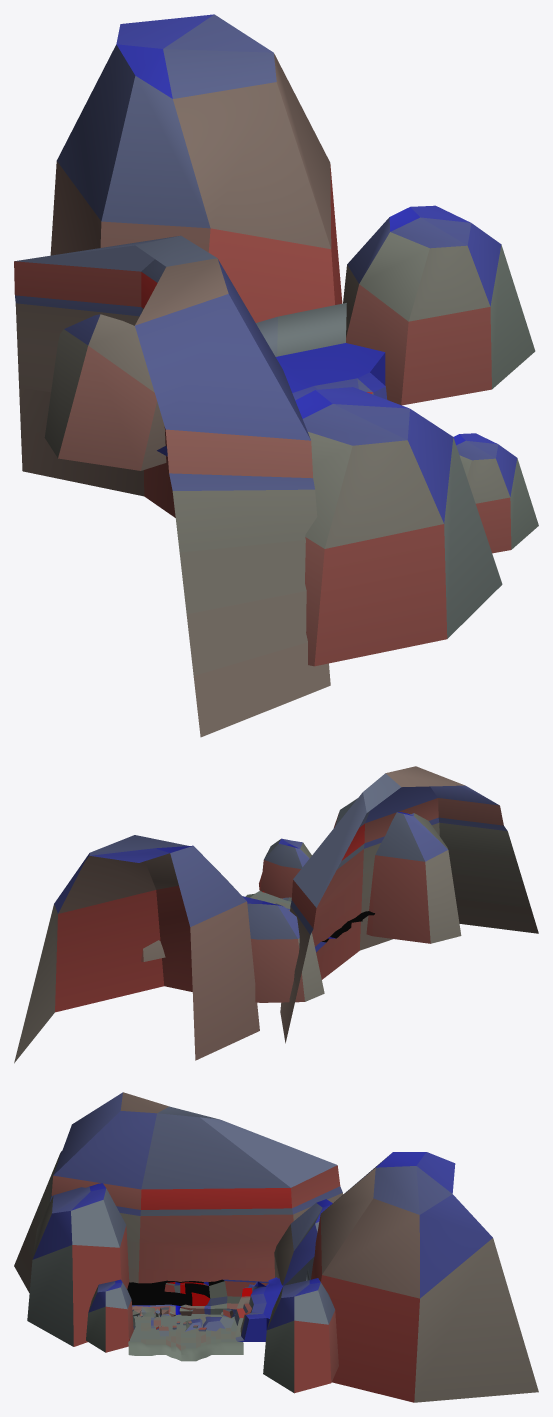
Rendered from level3c.fbx.
3 renders of one model, top to bottom at view 1: azimuth 30°, elevation 25°; view 2: azimuth 150°, elevation 25°; view 3: azimuth 270°, elevation 25°, orthographic. The views are drawn at different scales.
Visible parts, largest first — view 1: Mesh, Cliff; view 2: Mesh, Boulders; view 3: Mesh, Plane, Boulders, Cliff, Mesh (2), pyramids.
Part boxes in pixels (x1=…): Mesh: x1=14, y1=14, x2=538, y2=737; Cliff: x1=256, y1=303, x2=387, y2=400; Mesh: x1=14, y1=766, x2=538, y2=1063; Boulders: x1=262, y1=891, x2=374, y2=952; Mesh: x1=14, y1=1092, x2=538, y2=1402; Plane: x1=128, y1=1314, x2=243, y2=1361; Boulders: x1=127, y1=1279, x2=268, y2=1340; Cliff: x1=234, y1=1268, x2=310, y2=1341; Mesh (2): x1=132, y1=1307, x2=234, y2=1317; pyramids: x1=185, y1=1316, x2=233, y2=1331.
Bounding box in the file's own units: 66037 × 37338 × 92469.
